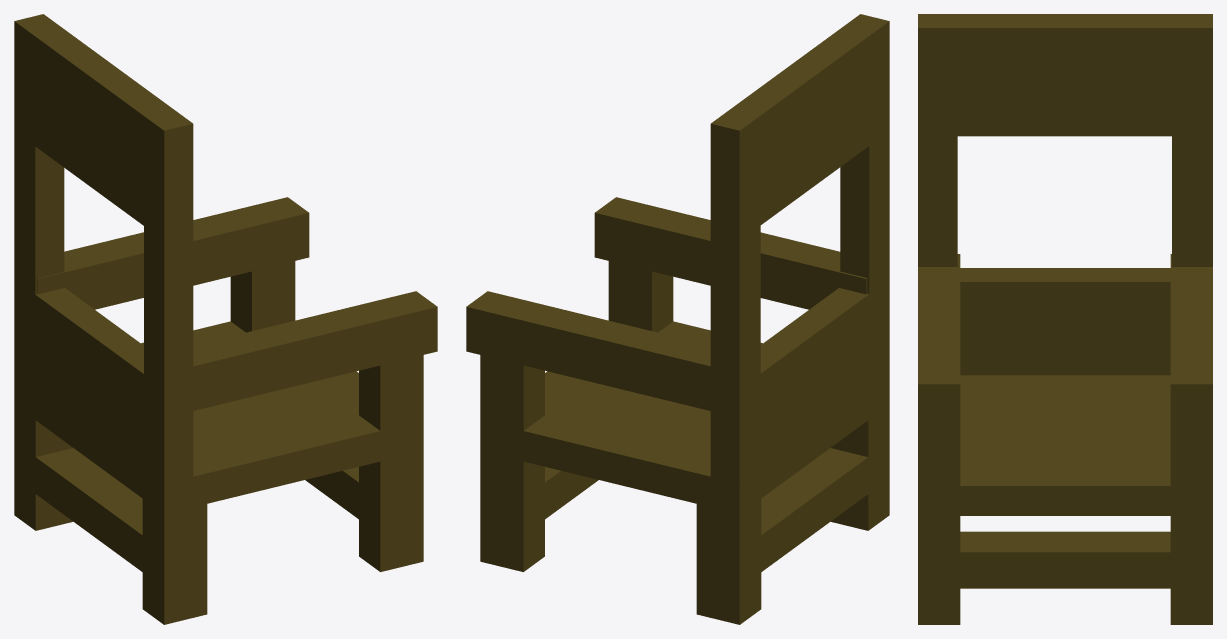
File: Chair.fbx
3 renders of one model, left to right at view 1: azimuth 30°, elevation 25°; view 2: azimuth 150°, elevation 25°; view 3: azimuth 270°, elevation 25°, orthographic.
Visible parts, largest first — view 1: Chair.001; view 2: Chair.001; view 3: Chair.001.
Part boxes in pixels (x1,y1,x2,y2): Chair.001: [14, 14, 437, 624]; Chair.001: [466, 14, 889, 624]; Chair.001: [918, 14, 1212, 624].
Size of the model in its own units: 93.25 by 161 by 88.48.
